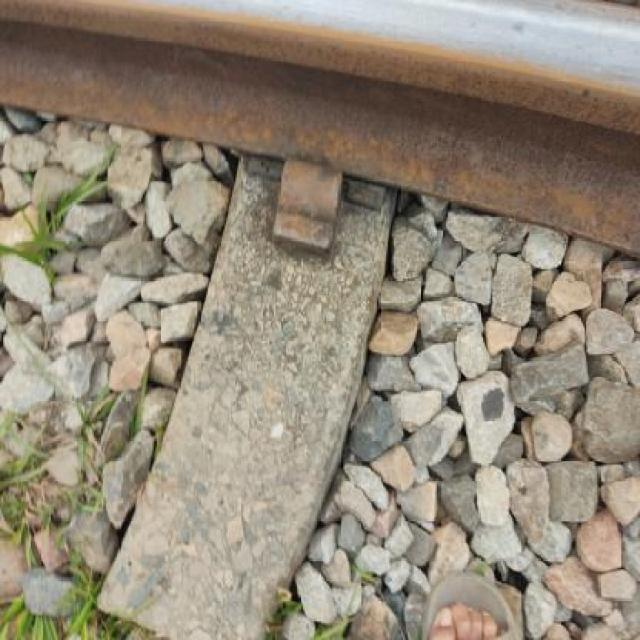non-defective: (161, 0, 640, 297)
